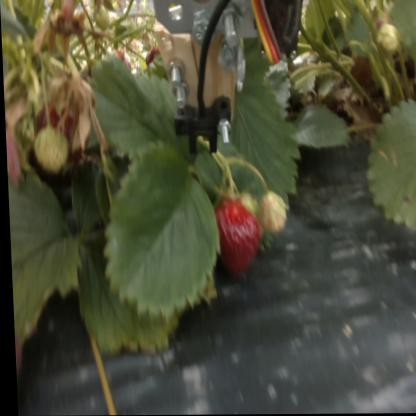ripe: (212, 199, 256, 276)
unripe: (35, 125, 66, 174), (260, 195, 285, 234)
